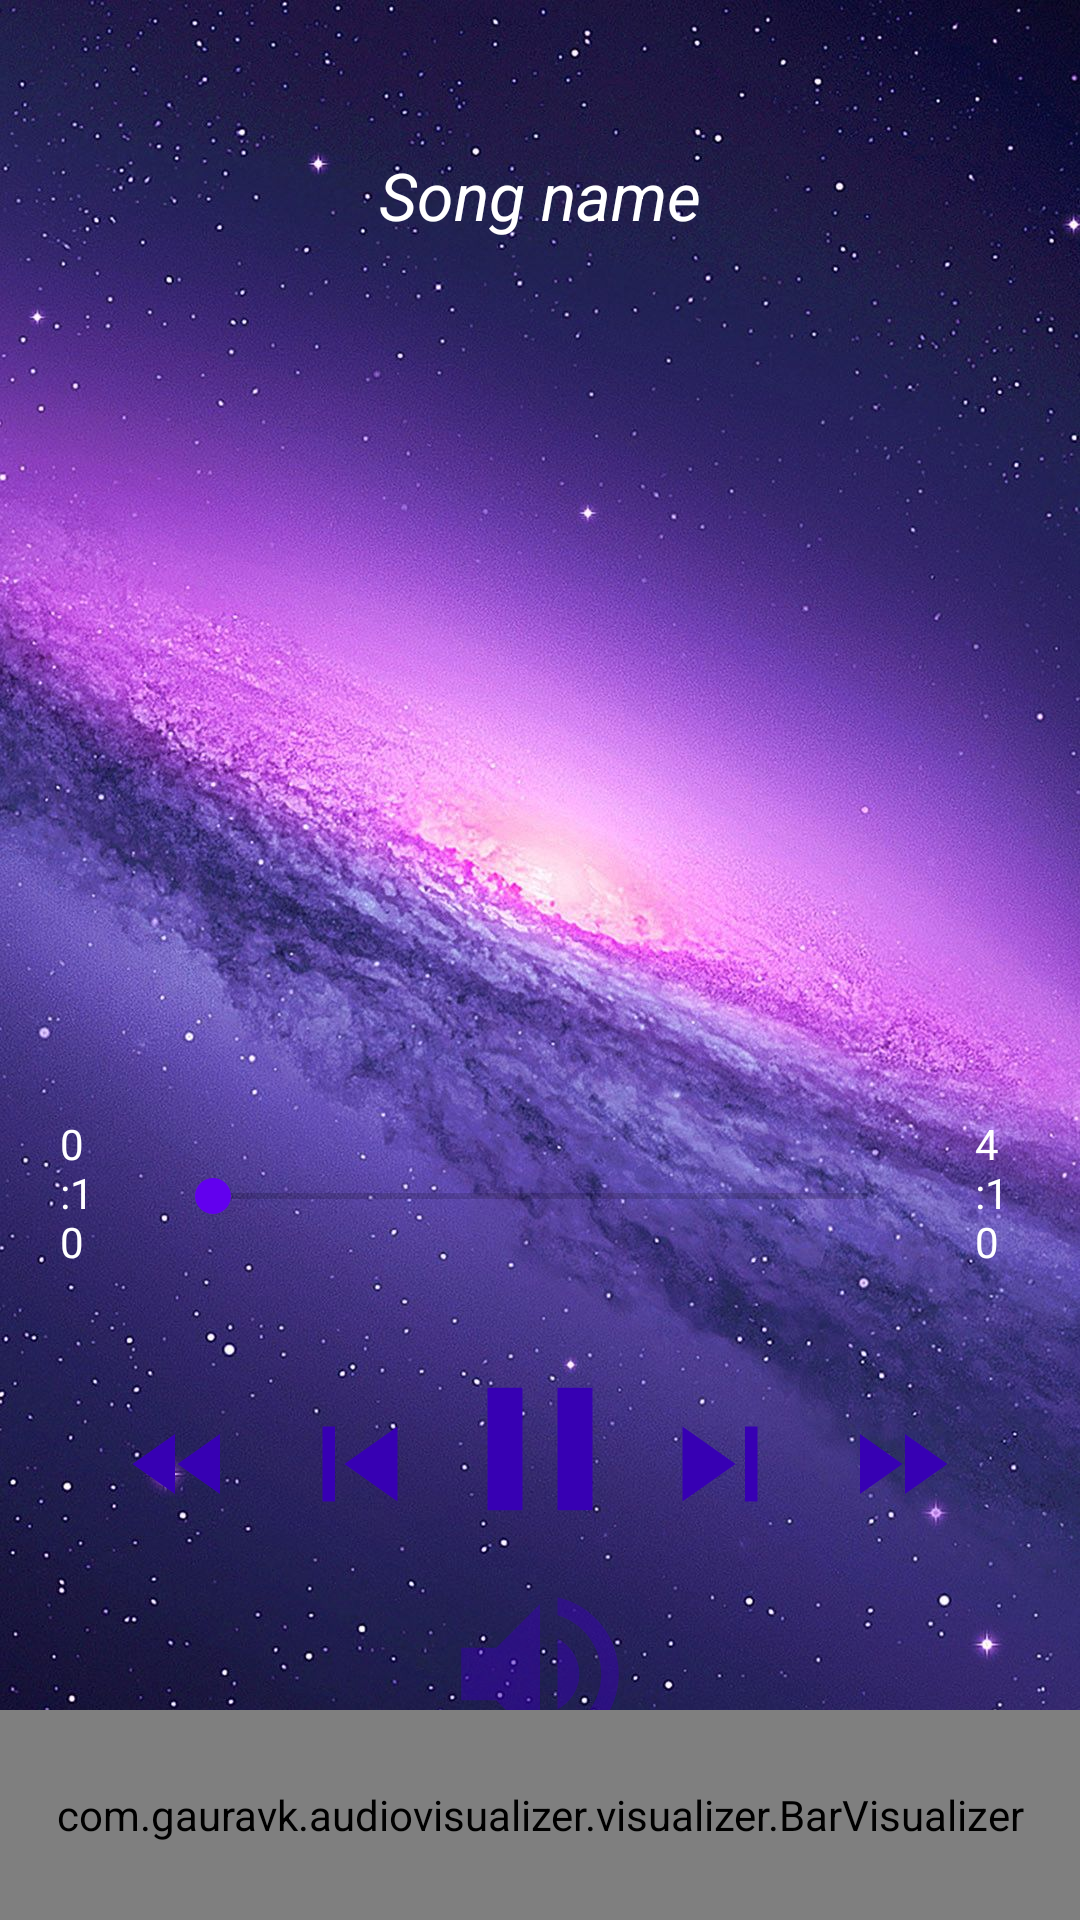

Icons on this 1080 x 1920 Android screen, each with the point to tap as (x,y):
fast forward: (900,1464)
fast rewind: (181,1463)
next: (719,1464)
pause: (540,1449)
prev: (374,1445)
